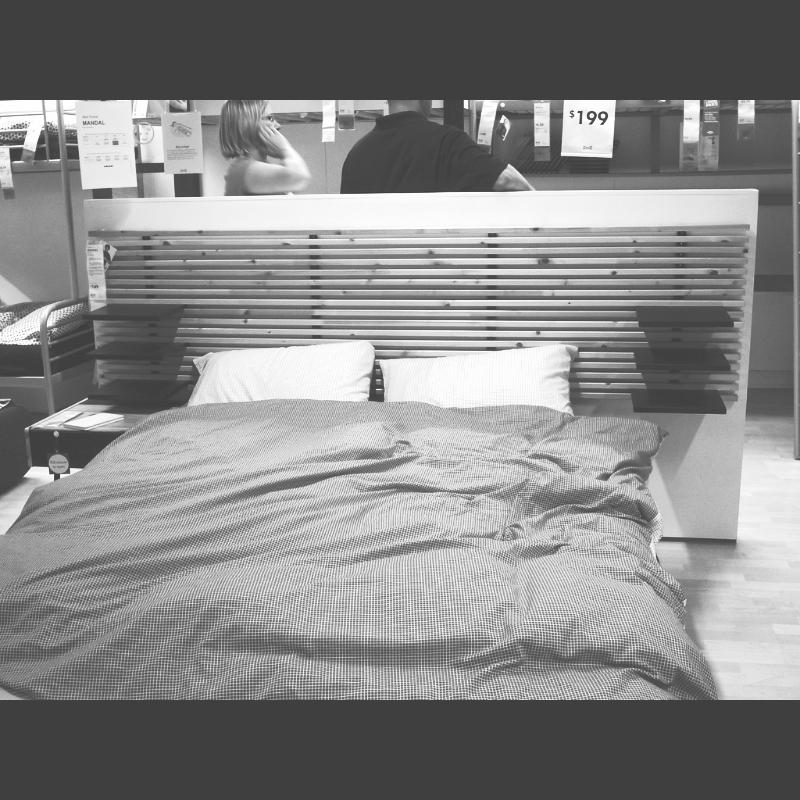pillow: (376, 344, 590, 416), (183, 342, 387, 414)
